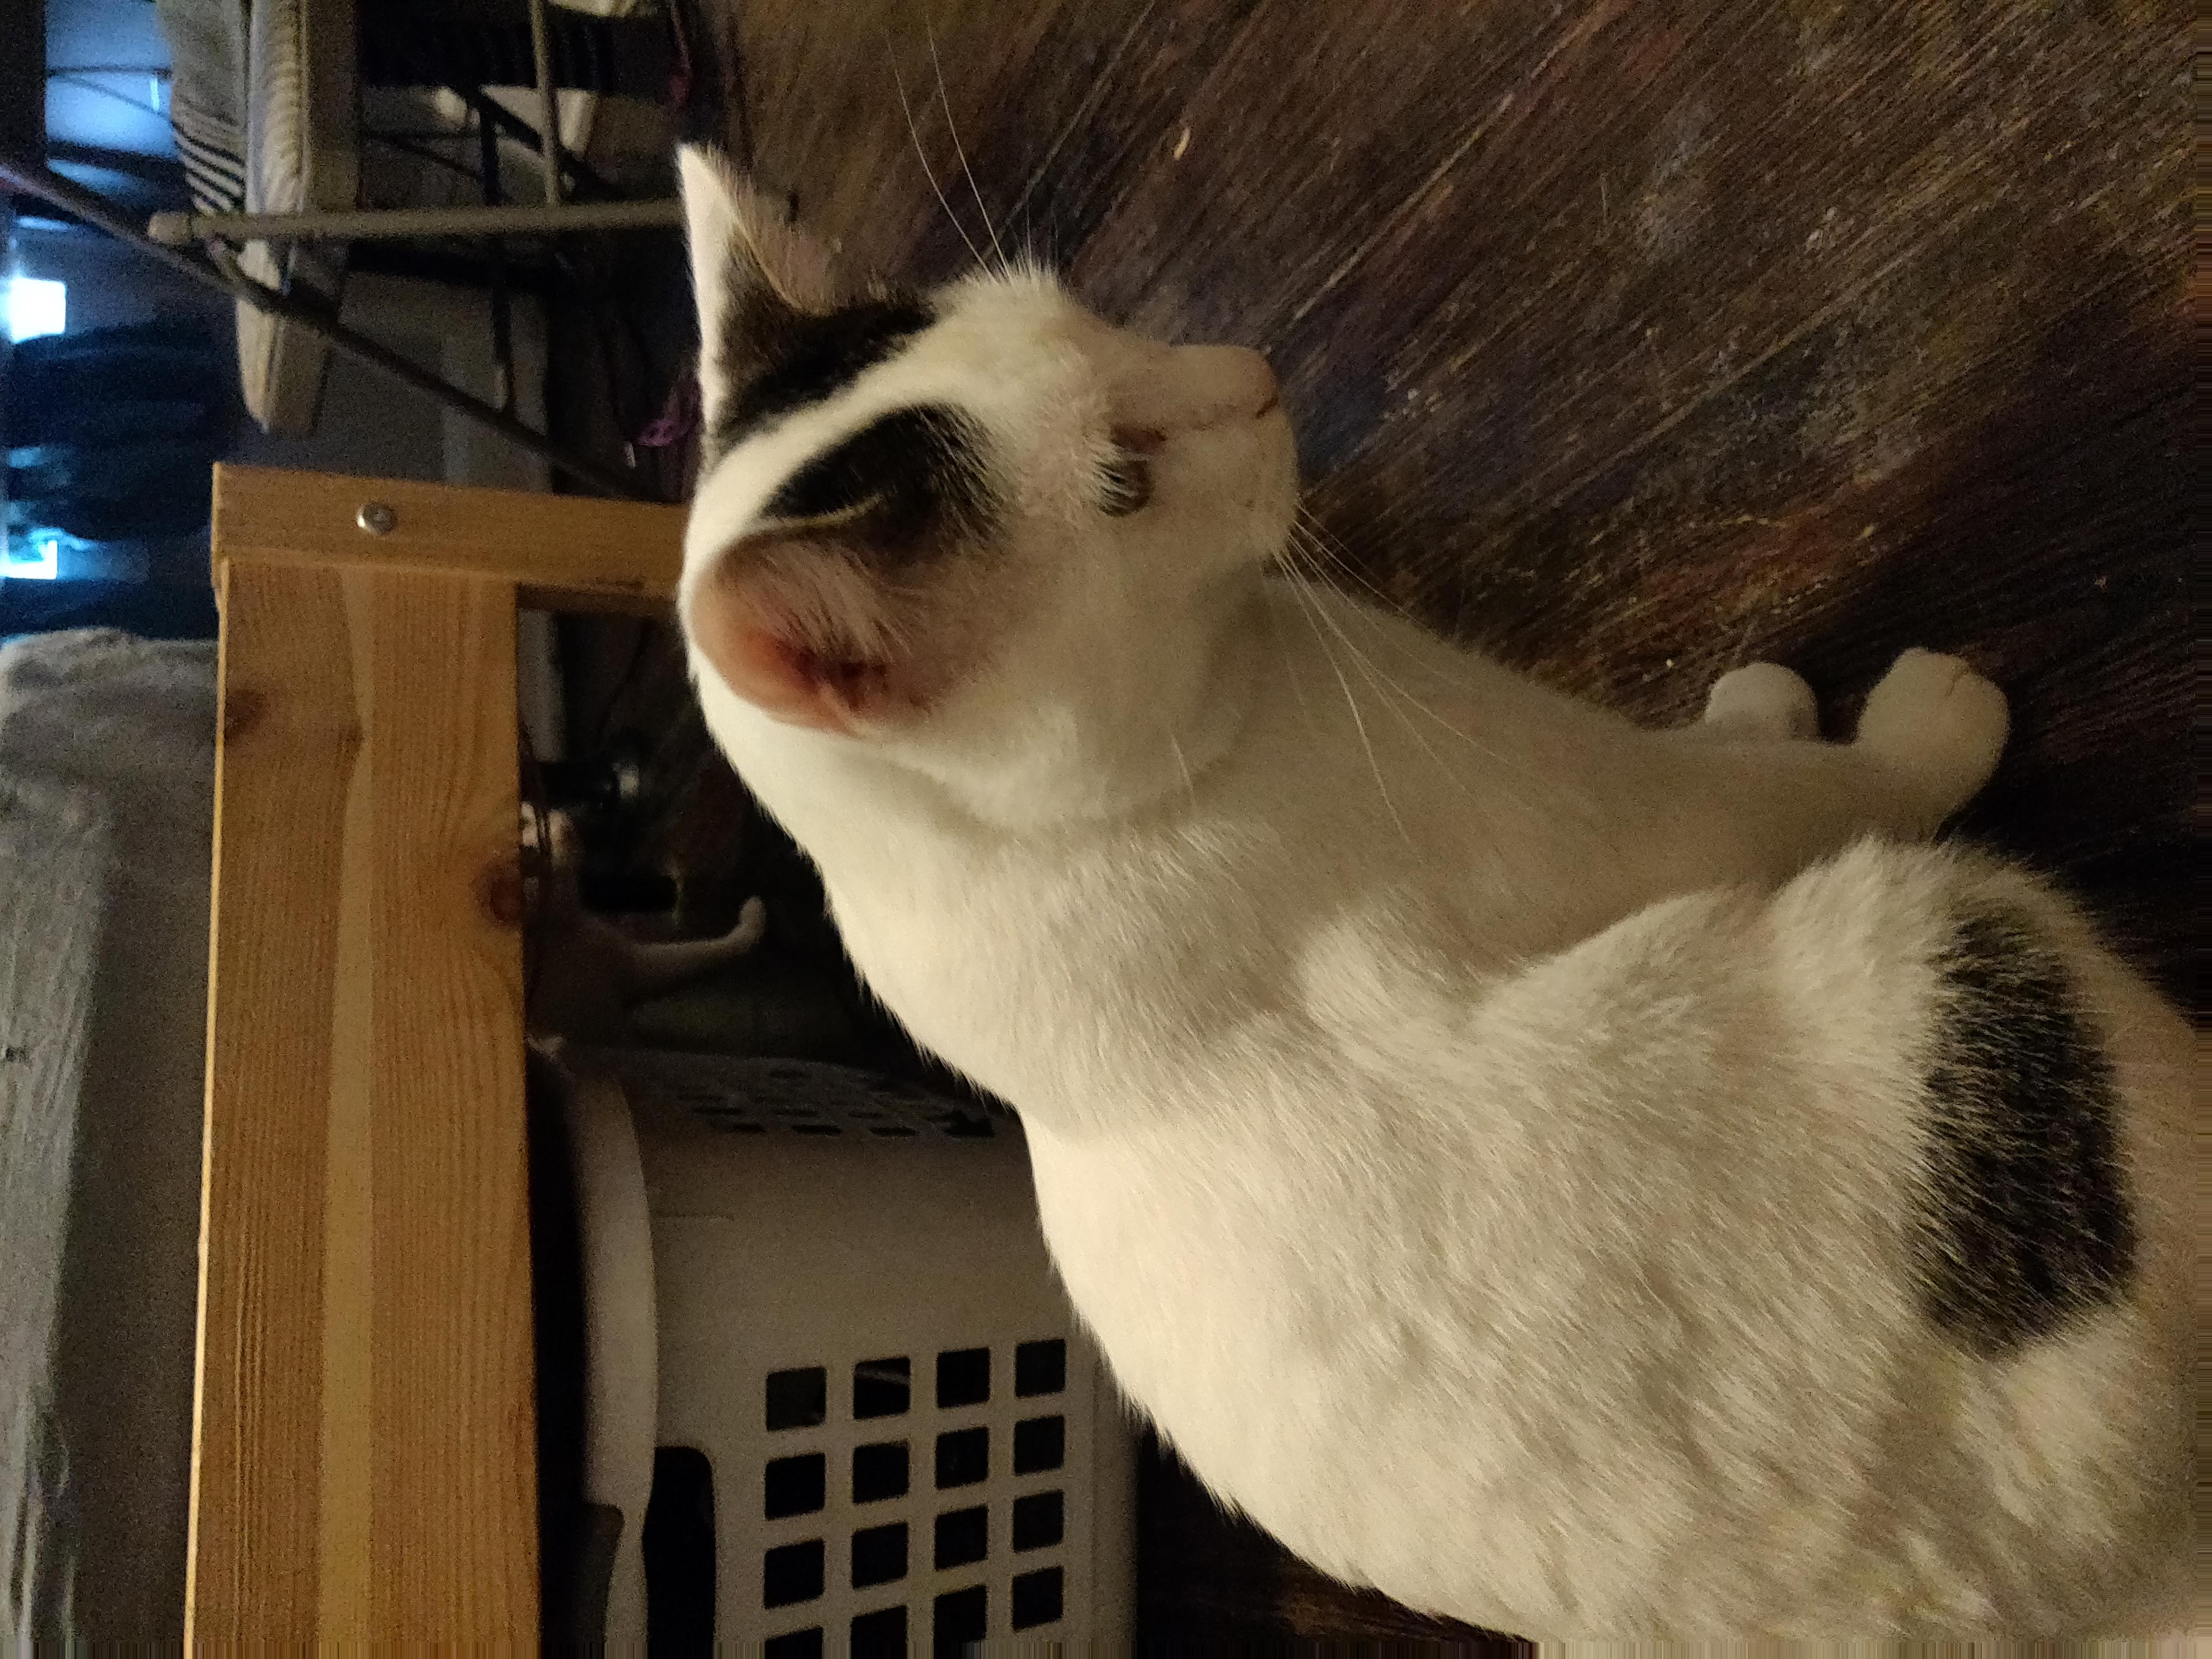cat: (672, 125, 2203, 1622)
